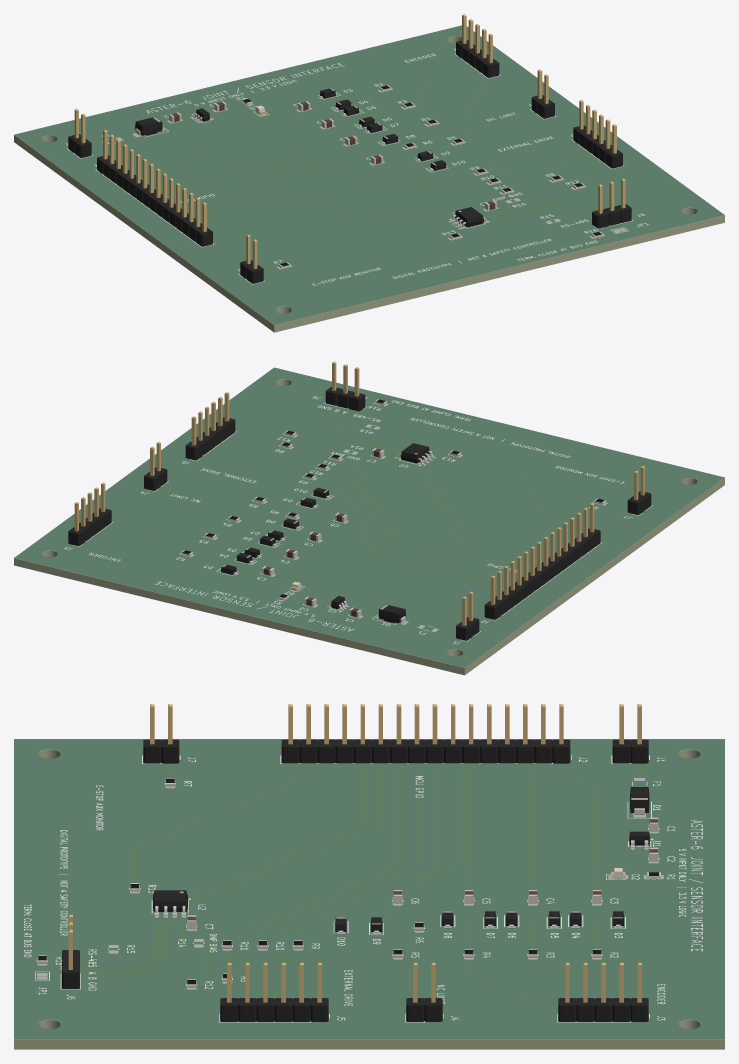
Rendered from aster-joint-interface.glb.
The picture shows the model from 3 angles, top to bottom: view 1: azimuth 30°, elevation 25°; view 2: azimuth 150°, elevation 25°; view 3: azimuth 270°, elevation 25°; orthographic projection. The views are drawn at different scales.
Parts seen in each view (by area): view 1: =>[0:1:1:30], =>[0:1:1:32], =>[0:1:1:9], =>[0:1:1:29], =>[0:1:1:13] (×3), =>[0:1:1:23], =>[0:1:1:25], =>[0:1:1:17], =>[0:1:1:27], =>[0:1:1:31]; view 2: =>[0:1:1:30], =>[0:1:1:32], =>[0:1:1:9], =>[0:1:1:29], =>[0:1:1:13] (×3), =>[0:1:1:23], =>[0:1:1:25], =>[0:1:1:17], =>[0:1:1:27], =>[0:1:1:26], =>[0:1:1:31], =>[0:1:1:11]; view 3: =>[0:1:1:30], =>[0:1:1:32], =>[0:1:1:9], =>[0:1:1:29], =>[0:1:1:13] (×3), =>[0:1:1:23], =>[0:1:1:25], =>[0:1:1:26], =>[0:1:1:27], =>[0:1:1:17], =>[0:1:1:11], =>[0:1:1:31].
Boxes of the visible parts, x1=… form: =>[0:1:1:30]: x1=14, y1=25, x2=724, y2=324; =>[0:1:1:32]: x1=14, y1=26, x2=724, y2=332; =>[0:1:1:9]: x1=97, y1=130, x2=212, y2=246; =>[0:1:1:29]: x1=66, y1=48, x2=648, y2=285; =>[0:1:1:13] (×3): x1=68, y1=69, x2=554, y2=283; =>[0:1:1:23]: x1=573, y1=100, x2=622, y2=168; =>[0:1:1:25]: x1=456, y1=14, x2=499, y2=77; =>[0:1:1:17]: x1=592, y1=178, x2=631, y2=228; =>[0:1:1:27]: x1=102, y1=88, x2=626, y2=269; =>[0:1:1:31]: x1=14, y1=142, x2=724, y2=332; =>[0:1:1:30]: x1=14, y1=367, x2=724, y2=667; =>[0:1:1:32]: x1=14, y1=368, x2=724, y2=675; =>[0:1:1:9]: x1=484, y1=503, x2=600, y2=619; =>[0:1:1:29]: x1=64, y1=396, x2=652, y2=644; =>[0:1:1:13] (×3): x1=144, y1=442, x2=651, y2=640; =>[0:1:1:23]: x1=185, y1=392, x2=235, y2=460; =>[0:1:1:25]: x1=68, y1=482, x2=111, y2=545; =>[0:1:1:17]: x1=325, y1=361, x2=365, y2=411; =>[0:1:1:27]: x1=179, y1=402, x2=607, y2=631; =>[0:1:1:26]: x1=98, y1=400, x2=626, y2=635; =>[0:1:1:31]: x1=14, y1=485, x2=724, y2=675; =>[0:1:1:11]: x1=396, y1=443, x2=434, y2=464; =>[0:1:1:30]: x1=14, y1=739, x2=724, y2=1039; =>[0:1:1:32]: x1=14, y1=740, x2=724, y2=1049; =>[0:1:1:9]: x1=281, y1=704, x2=570, y2=763; =>[0:1:1:29]: x1=24, y1=755, x2=702, y2=1022; =>[0:1:1:13] (×3): x1=143, y1=704, x2=648, y2=1021; =>[0:1:1:23]: x1=220, y1=962, x2=328, y2=1021; =>[0:1:1:25]: x1=558, y1=962, x2=648, y2=1021; =>[0:1:1:26]: x1=42, y1=764, x2=654, y2=1014; =>[0:1:1:27]: x1=37, y1=778, x2=663, y2=989; =>[0:1:1:17]: x1=62, y1=914, x2=79, y2=988; =>[0:1:1:11]: x1=153, y1=890, x2=187, y2=915; =>[0:1:1:31]: x1=14, y1=1049, x2=724, y2=1049.
Bounding box in the file's own units: 0.1 × 0.0115 × 0.1.
